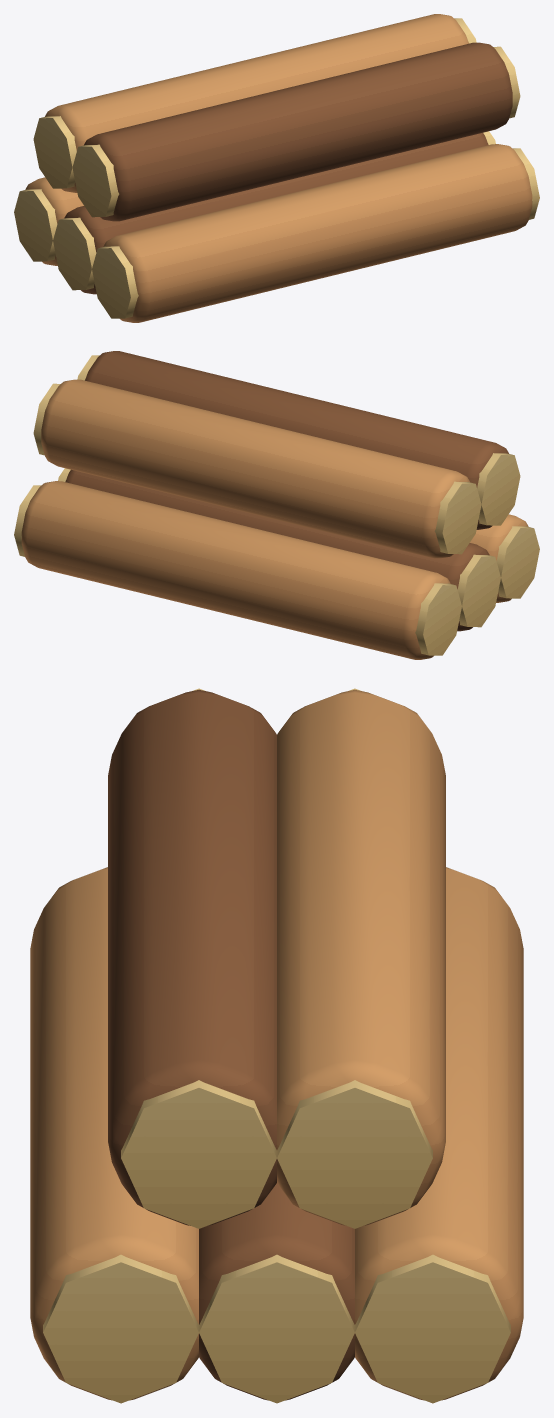
File: lumber.glb
The picture shows the model from 3 angles, top to bottom: view 1: azimuth 30°, elevation 25°; view 2: azimuth 150°, elevation 25°; view 3: azimuth 270°, elevation 25°; orthographic projection. The views are drawn at different scales.
Visible parts, largest first — view 1: lumber; view 2: lumber; view 3: lumber.
Boxes of the visible parts, x1,y1,x2,y2 form: lumber: [14, 14, 539, 322]; lumber: [14, 351, 539, 659]; lumber: [30, 688, 523, 1403].
Bounding box in the file's own units: 1.03 × 0.4082 × 0.5382.
Materials: 1 (1 with a texture image).
